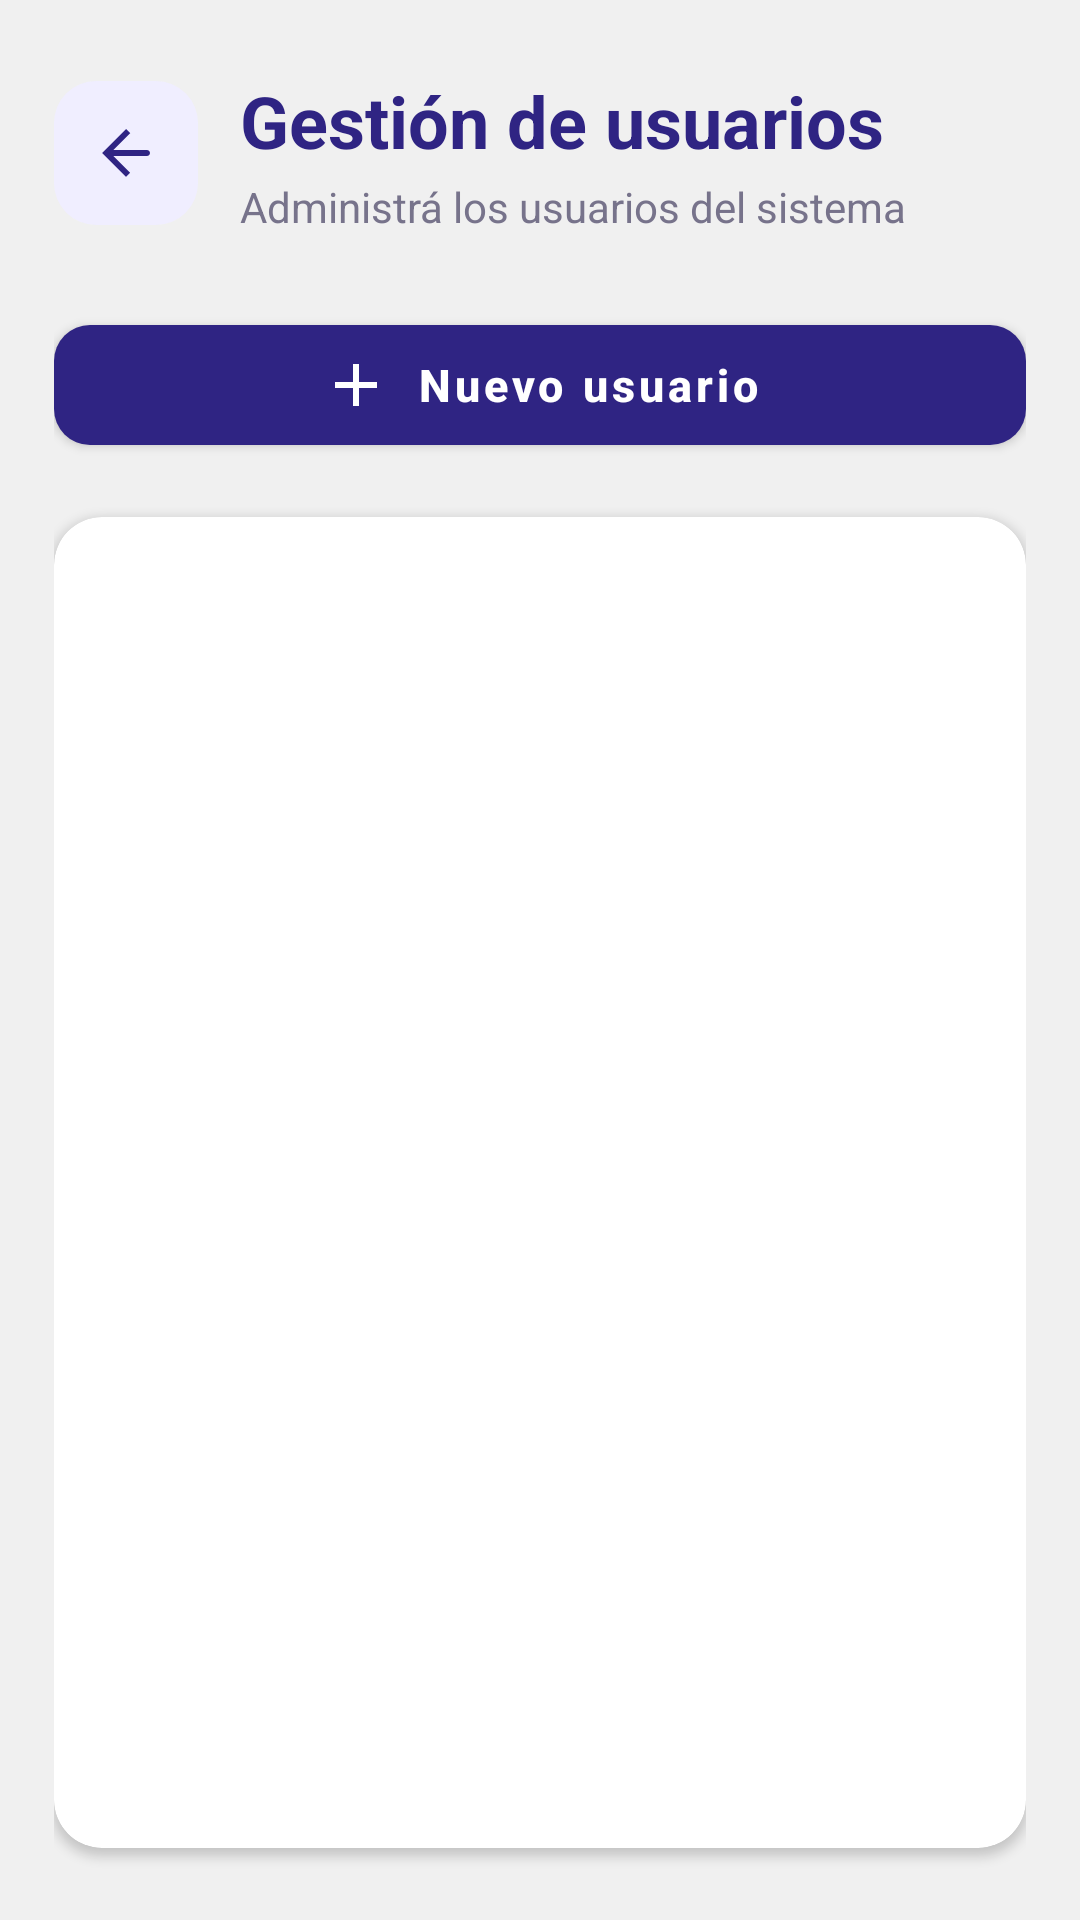

Screen size 1080px x 1920px. Icon name, then its box in pixels as (x1, y1, x2, y2):
Volver: (54, 81, 198, 225)
